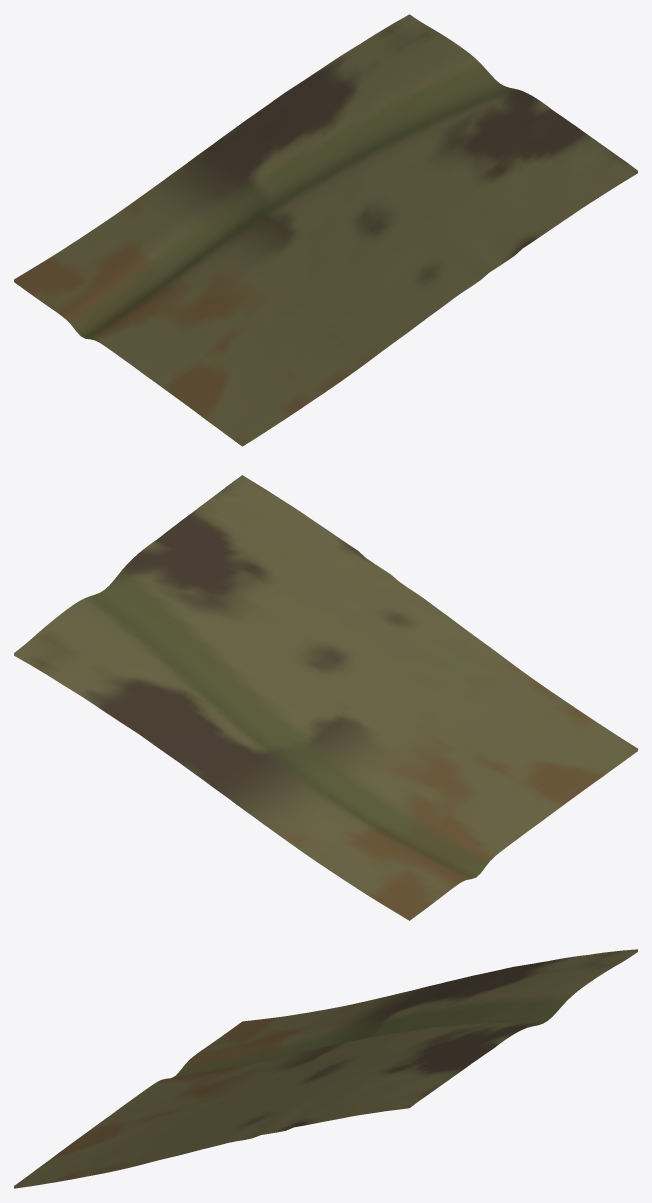
The model's file is land_m_09_05.glb.
3 views of the same model, one above another, from view 1: azimuth 30°, elevation 25°; view 2: azimuth 150°, elevation 25°; view 3: azimuth 330°, elevation 25° (orthographic).
Parts seen in each view (by area): view 1: land_m_09_05; view 2: land_m_09_05; view 3: land_m_09_05.
Boxes of the visible parts, x1=… form: land_m_09_05: x1=14, y1=14, x2=637, y2=446; land_m_09_05: x1=14, y1=475, x2=637, y2=920; land_m_09_05: x1=14, y1=949, x2=637, y2=1188.
Size of the model in its own units: 960 by 435 by 960.
